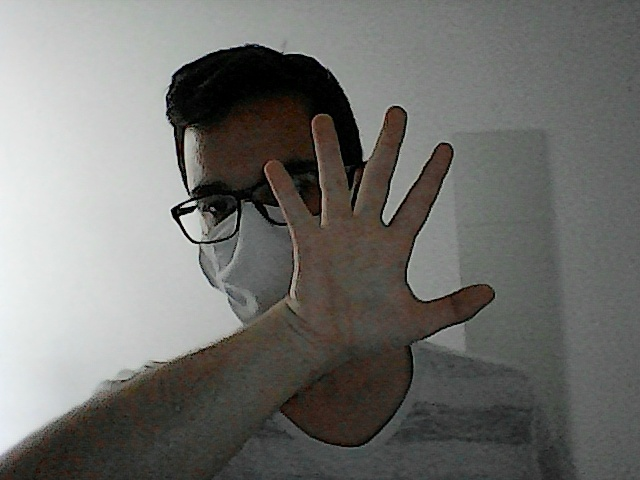jump: (253, 100, 506, 349)
